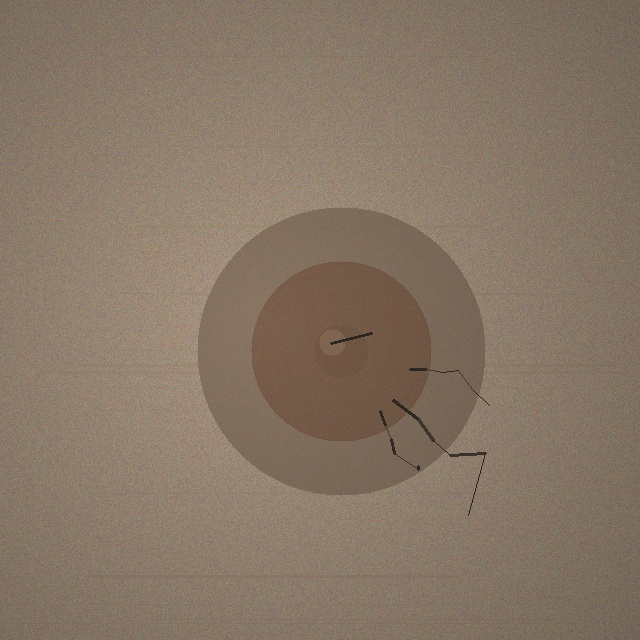crack: (197, 207, 485, 495)
